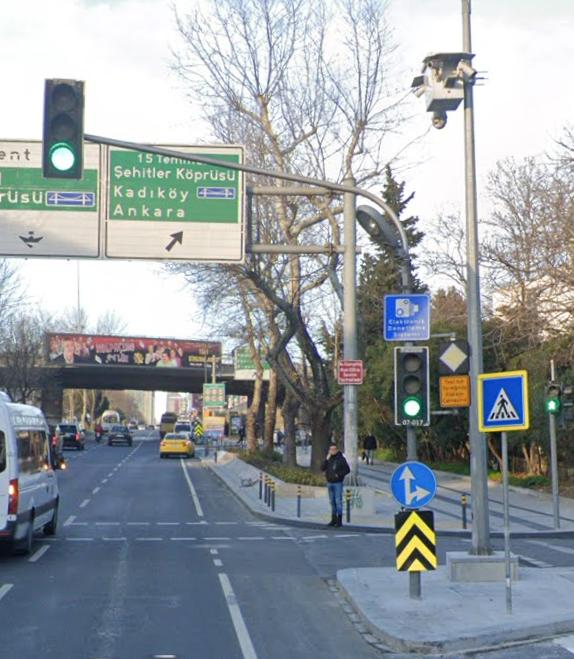greenlight: (43, 78, 82, 177), (394, 349, 424, 424)
